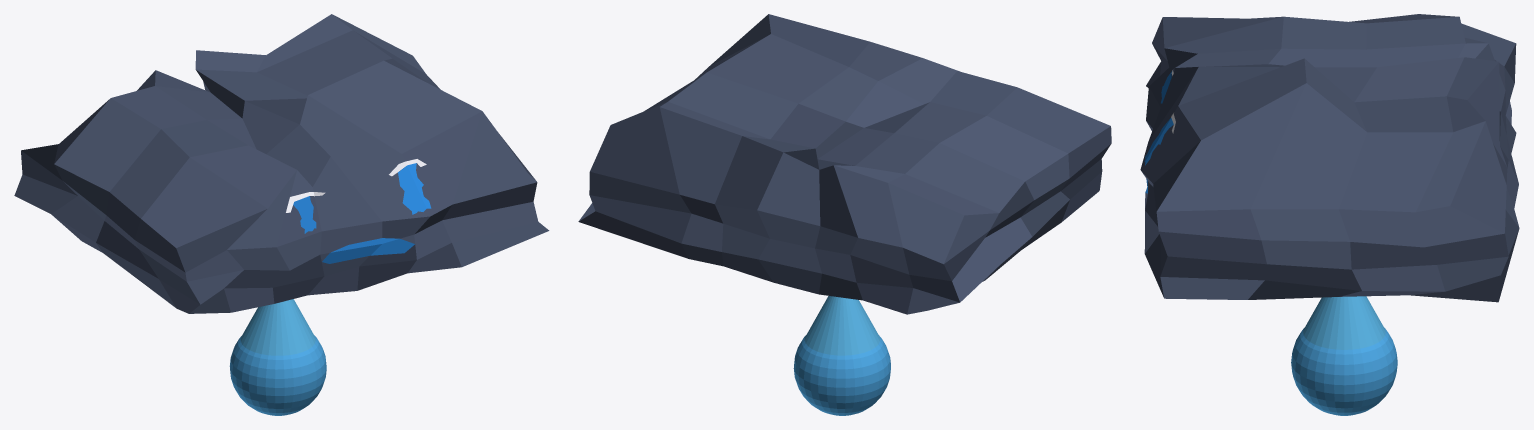
Rendered from light-rain.gltf.
The picture shows the model from 3 angles, left to right: view 1: azimuth 30°, elevation 25°; view 2: azimuth 150°, elevation 25°; view 3: azimuth 270°, elevation 25°; orthographic projection. The views are drawn at different scales.
Parts seen in each view (by area): view 1: Cube, Cone; view 2: Cube, Cone; view 3: Cube, Cone.
Part boxes in pixels (left/top/right/bottom): Cube: left=14, top=14, right=549, bottom=313; Cone: left=229, top=299, right=326, bottom=415; Cube: left=578, top=14, right=1111, bottom=314; Cone: left=793, top=296, right=890, bottom=415; Cube: left=1140, top=14, right=1519, bottom=302; Cone: left=1291, top=296, right=1397, bottom=415.
Bounding box in the file's own units: 1.65 × 1.37 × 1.25.
